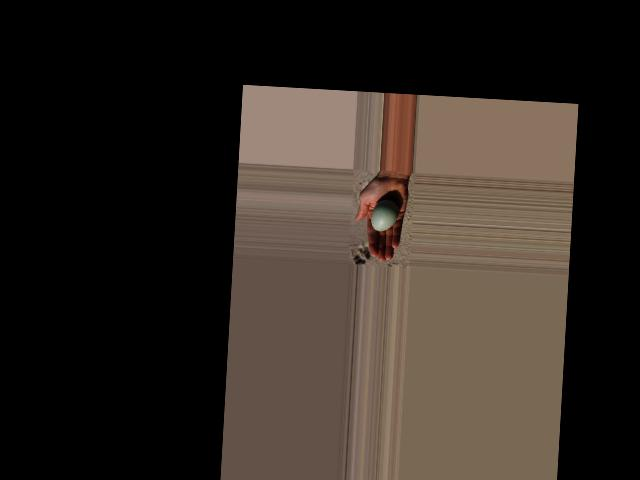egg: (371, 199, 399, 231)
